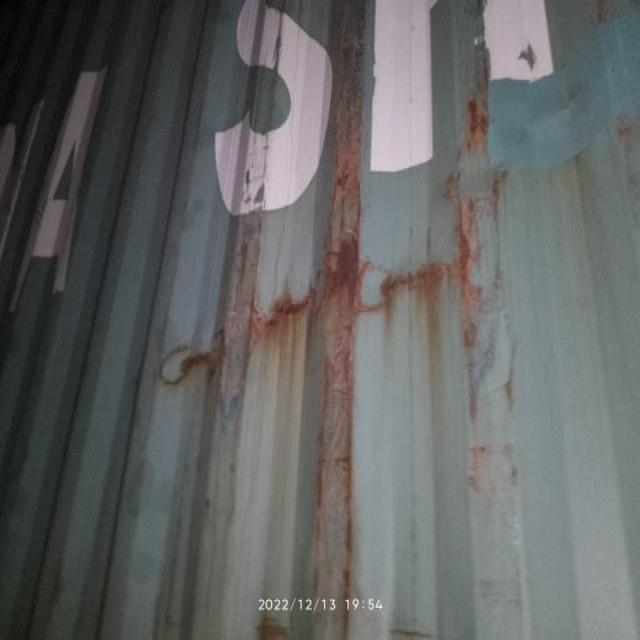Rust: (308, 169, 357, 411)
